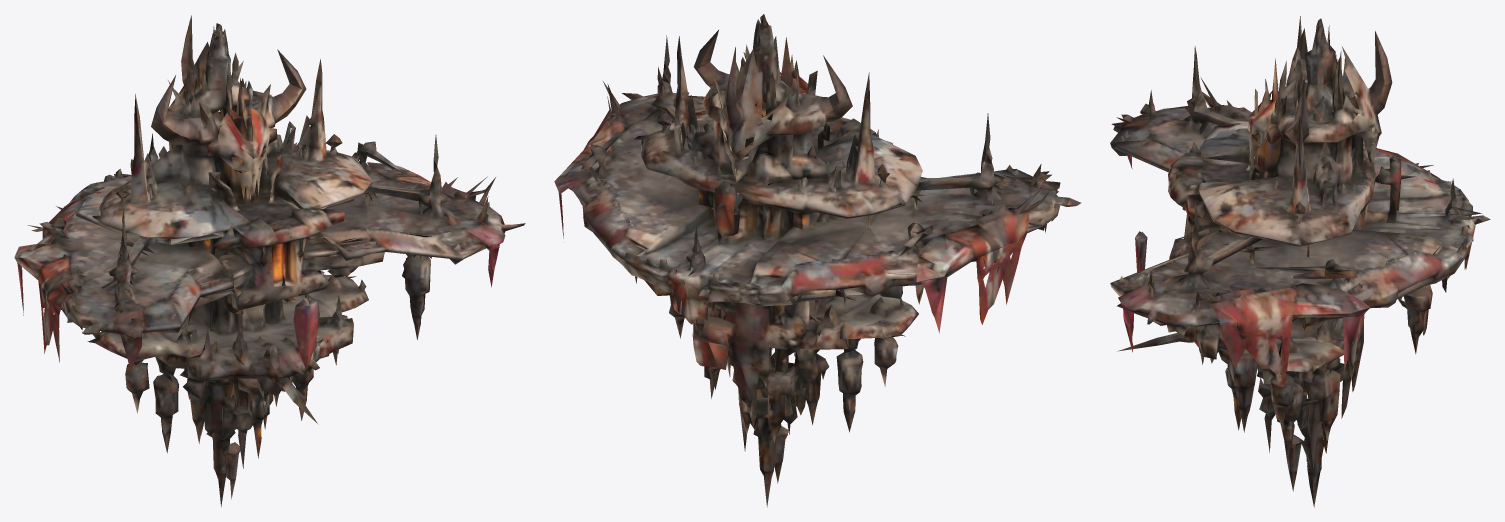
Rendered from HL_Station_Savagers_Capital_retopo.glb.
The picture shows the model from 3 angles, left to right: view 1: azimuth 30°, elevation 25°; view 2: azimuth 150°, elevation 25°; view 3: azimuth 270°, elevation 25°; orthographic projection. The views are drawn at different scales.
Visible parts, largest first — view 1: HL_Station_Savagers_Capital_retopo; view 2: HL_Station_Savagers_Capital_retopo; view 3: HL_Station_Savagers_Capital_retopo.
Boxes of the visible parts, x1,y1,x2,y2 form: HL_Station_Savagers_Capital_retopo: (14,15,525,507); HL_Station_Savagers_Capital_retopo: (554,14,1081,507); HL_Station_Savagers_Capital_retopo: (1110,16,1490,507).
Bounding box in the file's own units: 0.9427 × 0.9748 × 0.6877.
1 material, 1 textured.
